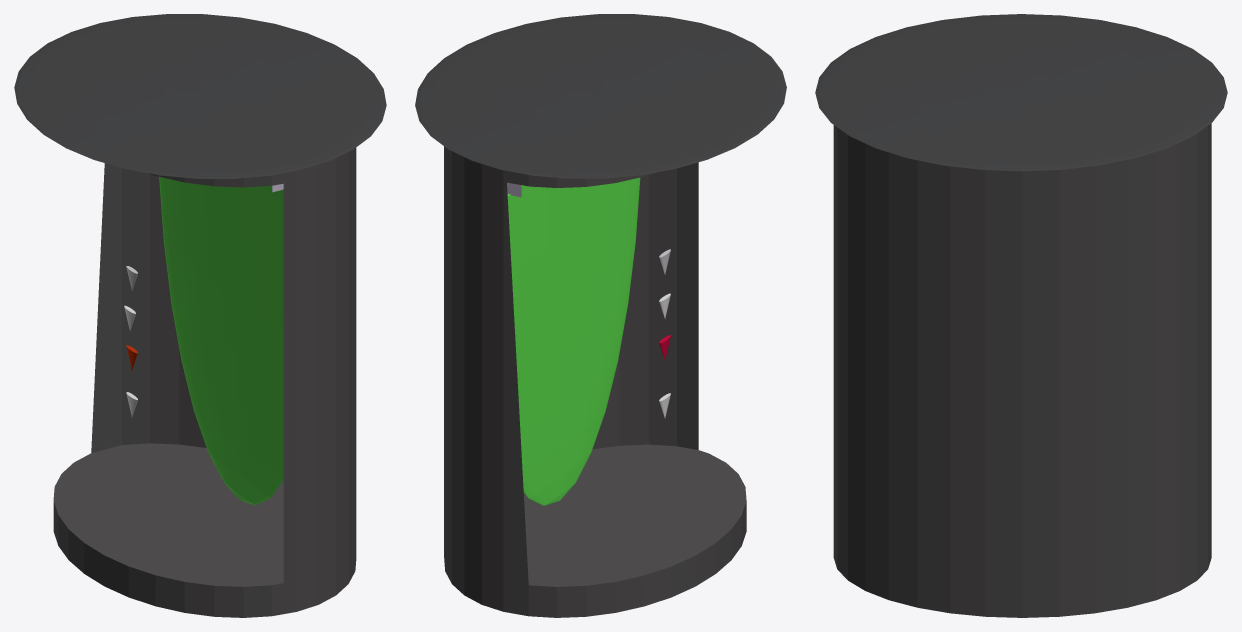
The model's file is core2.dae.
3 renders of one model, left to right at view 1: azimuth 30°, elevation 25°; view 2: azimuth 150°, elevation 25°; view 3: azimuth 270°, elevation 25°, orthographic. The views are drawn at different scales.
Parts seen in each view (by area): view 1: surface_core, top_disk, Core; view 2: surface_core, top_disk, Core; view 3: surface_core, top_disk.
Part boxes in pixels (bbox=[...]): surface_core: bbox=[53, 148, 356, 617]; top_disk: bbox=[14, 14, 386, 178]; Core: bbox=[159, 176, 283, 505]; surface_core: bbox=[444, 146, 746, 617]; top_disk: bbox=[415, 14, 786, 178]; Core: bbox=[507, 177, 640, 505]; surface_core: bbox=[833, 123, 1211, 617]; top_disk: bbox=[815, 14, 1227, 171].
Bounding box in the file's own units: 2.6 × 2.88 × 3.58.
